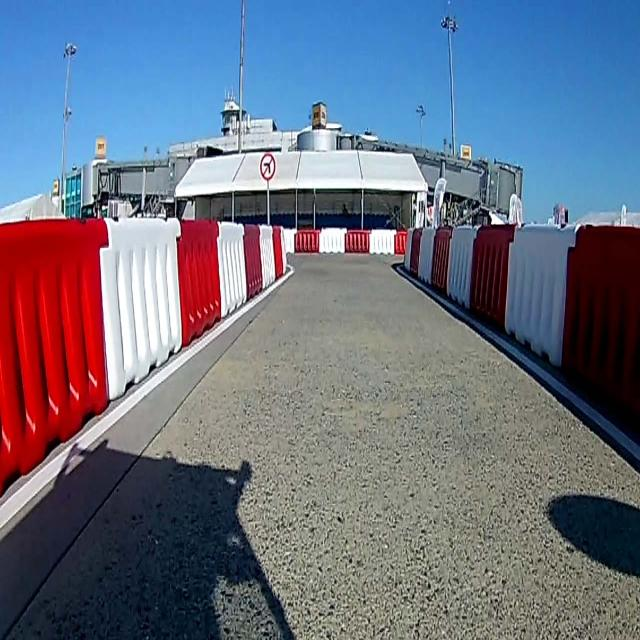soladonulmez: (259, 152, 276, 182)
